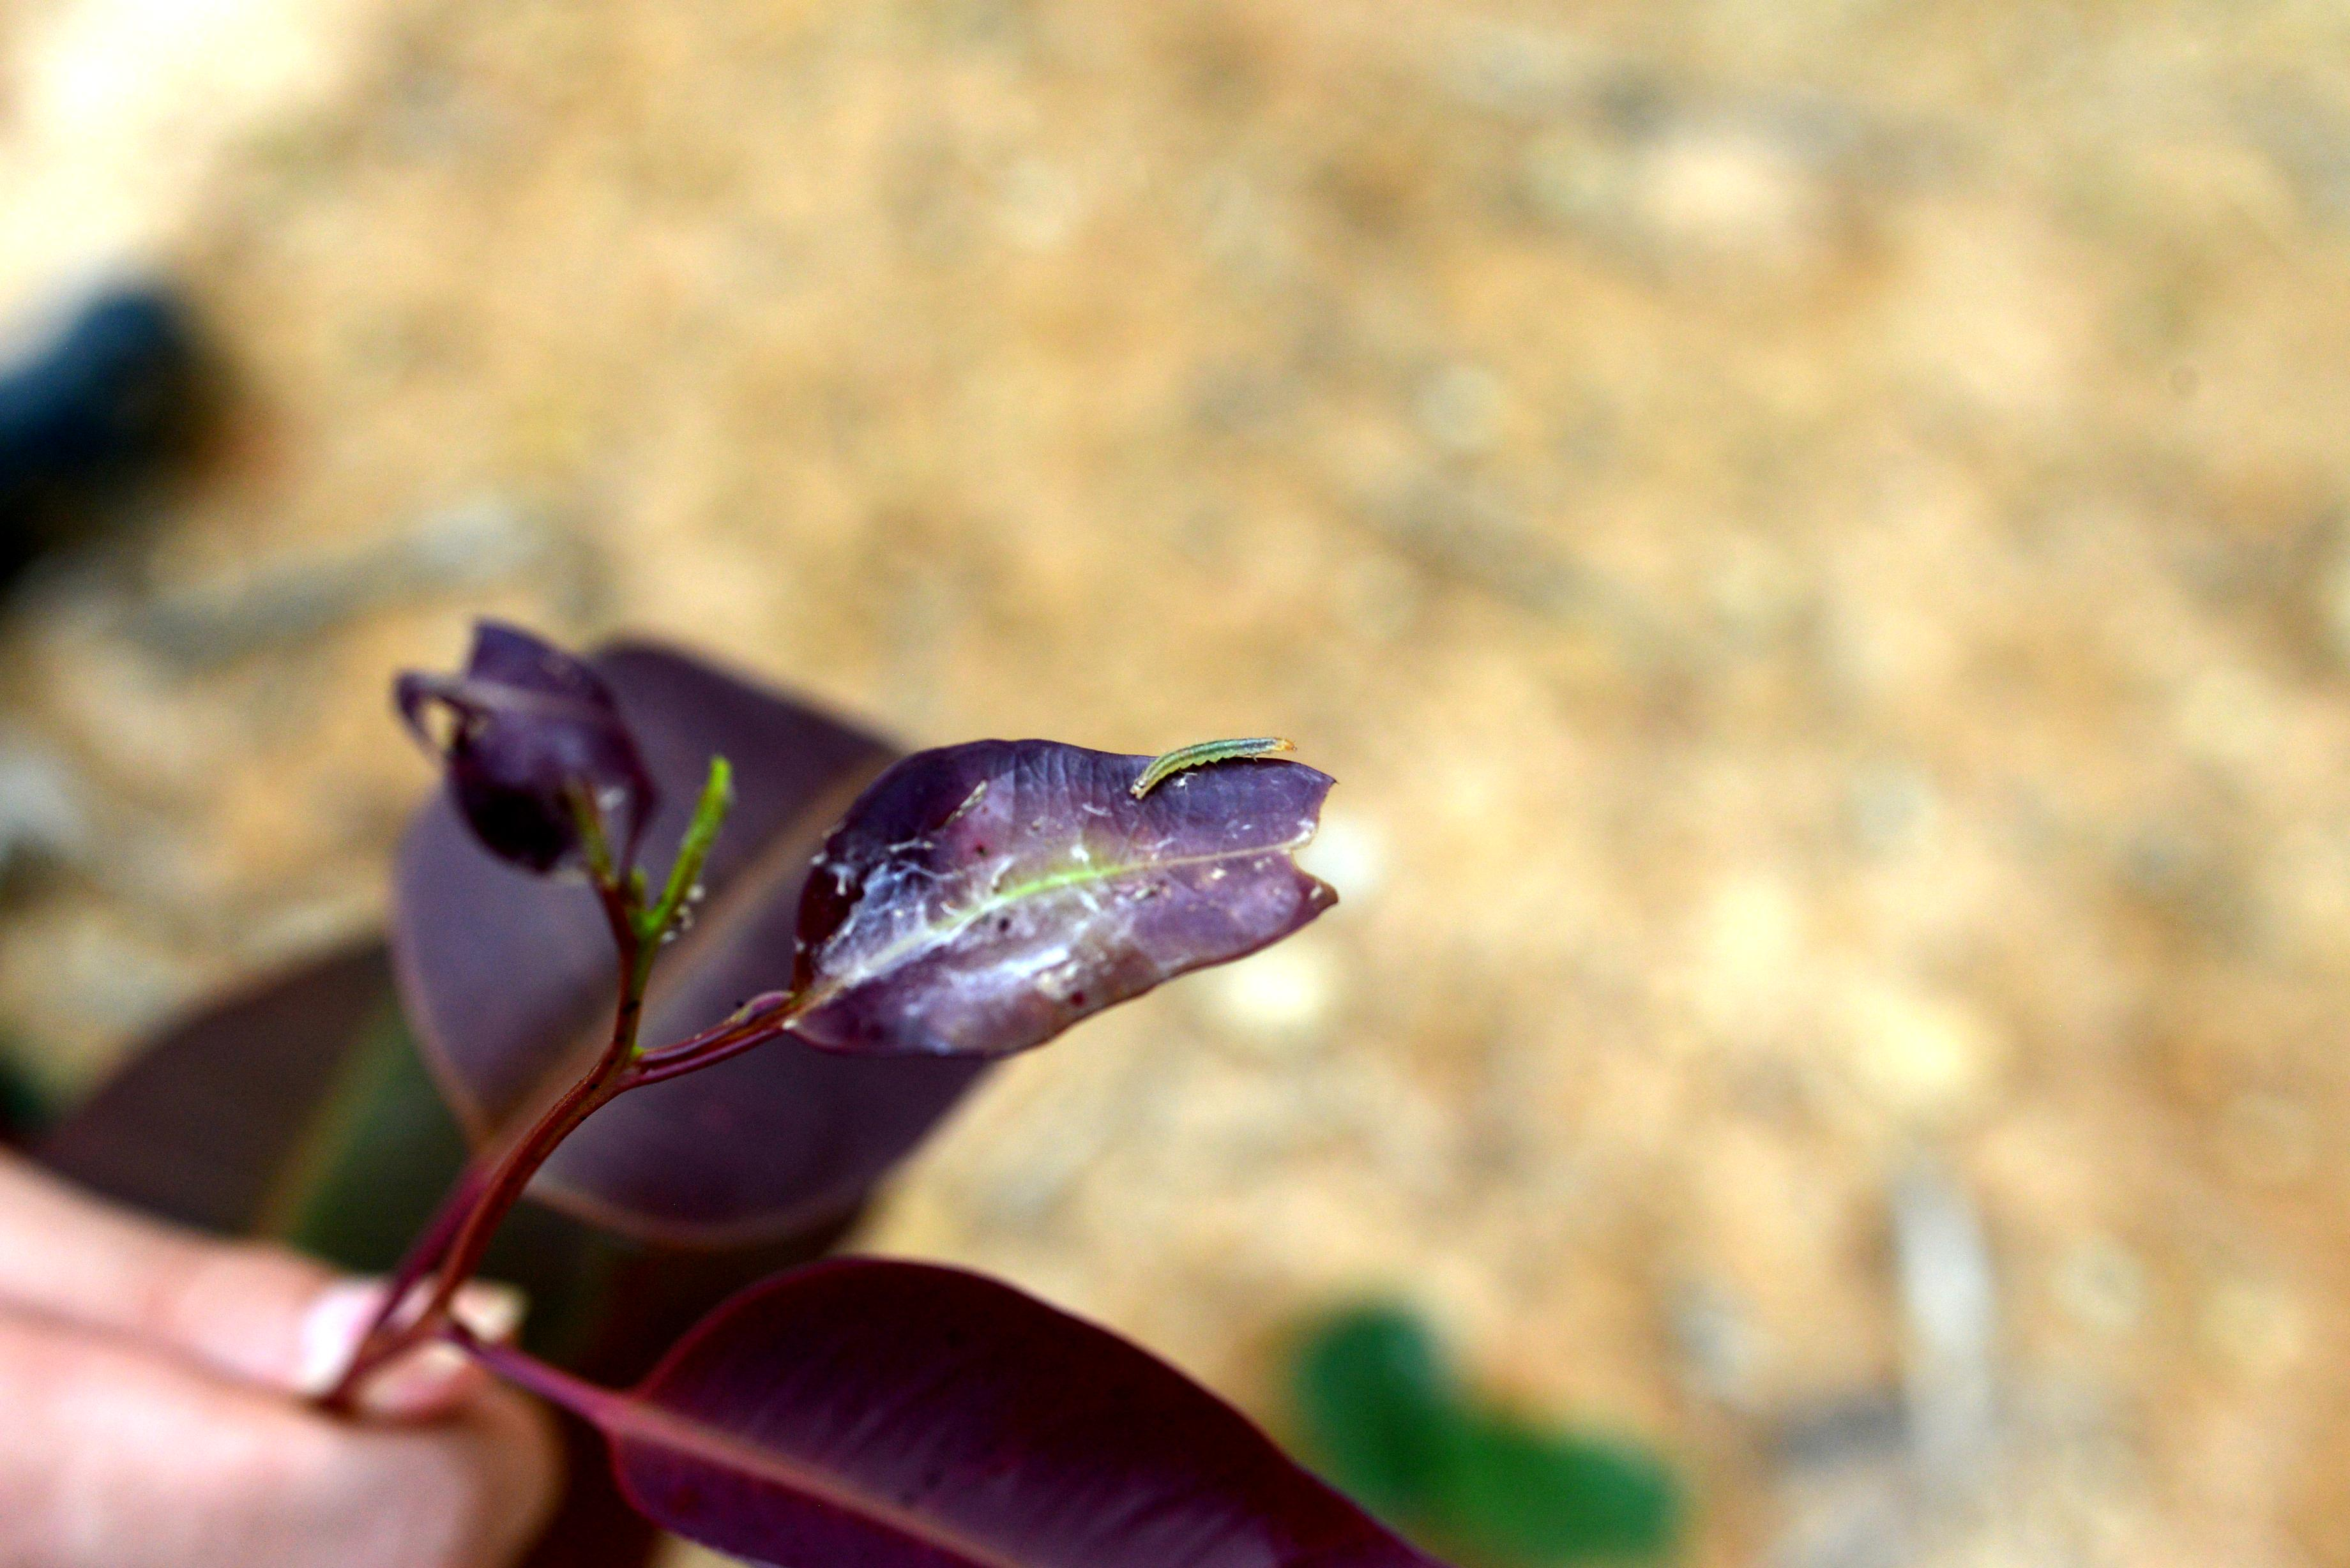Leaf Roller - Insect: (1131, 725, 1307, 786)
Leaf Roller - Leaf: (778, 746, 1342, 1067), (393, 614, 646, 898)
